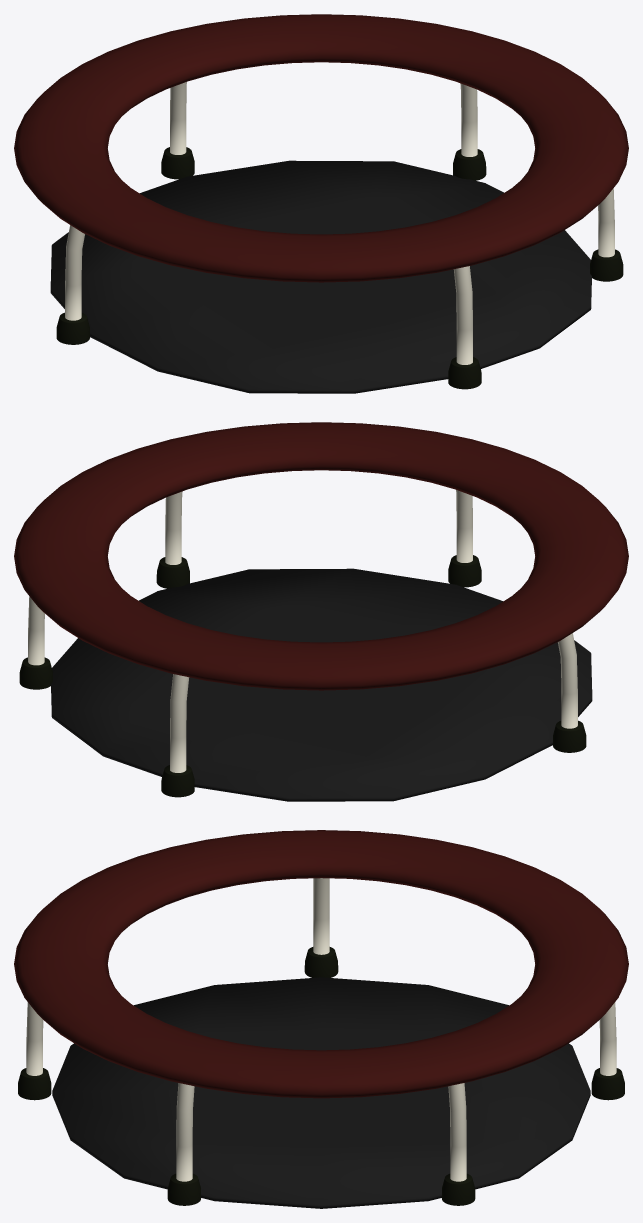
The model's file is trampoline.glb.
3 views of the same model, one above another, from view 1: azimuth 30°, elevation 25°; view 2: azimuth 150°, elevation 25°; view 3: azimuth 270°, elevation 25° (orthographic).
Parts seen in each view (by area): view 1: frame, mat; view 2: frame, mat; view 3: frame, mat.
Part boxes in pixels (box(x1,y1,x2,y2)): frame: box(14, 14, 628, 389); mat: box(50, 160, 591, 393); frame: box(14, 422, 628, 797); mat: box(51, 568, 592, 801); frame: box(14, 830, 628, 1205); mat: box(52, 977, 590, 1208).
Bounding box in the file's own units: 1.3 × 0.3374 × 1.3.
